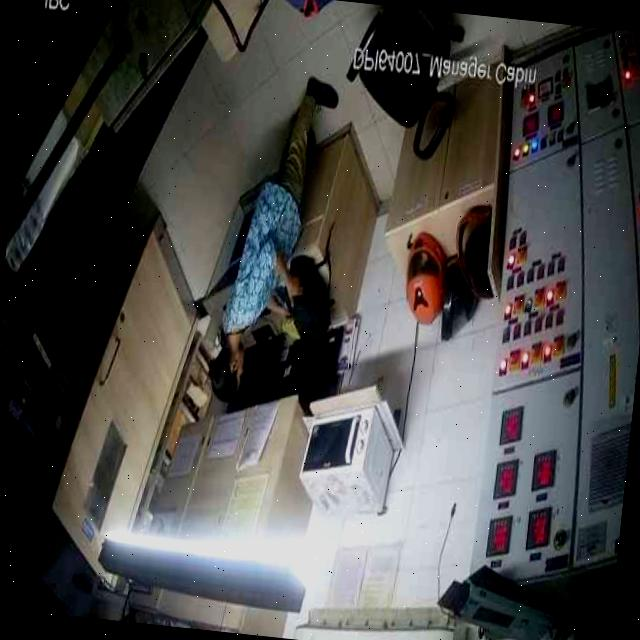helmet: (403, 232, 448, 324)
no_helmet: (207, 334, 244, 402)
